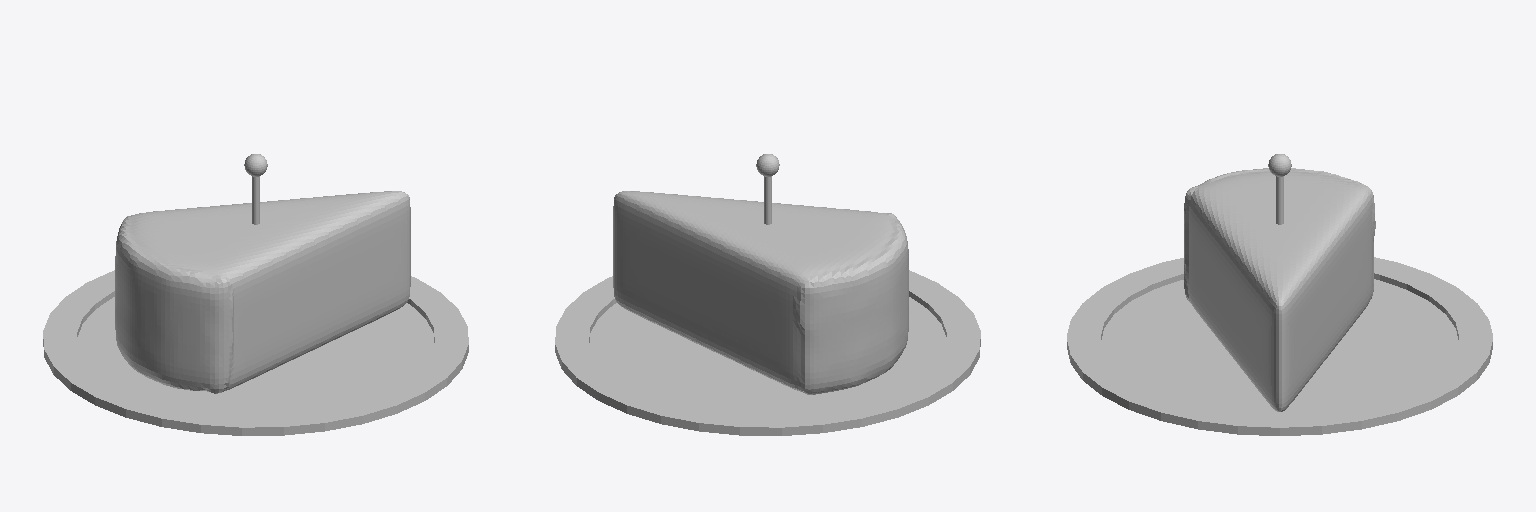
The model's file is main.obj.
3 renders of one model, left to right at view 1: azimuth 30°, elevation 25°; view 2: azimuth 150°, elevation 25°; view 3: azimuth 270°, elevation 25°, orthographic.
Visible parts, largest first — view 1: Cube_Cube.002, Cylinder.001_Cylinder.004; view 2: Cube_Cube.002, Cylinder.001_Cylinder.004; view 3: Cylinder.001_Cylinder.004, Cube_Cube.002.
Boxes of the visible parts, x1,y1,x2,y2 form: Cube_Cube.002: [115, 191, 410, 393]; Cylinder.001_Cylinder.004: [43, 270, 468, 435]; Cube_Cube.002: [613, 191, 908, 394]; Cylinder.001_Cylinder.004: [555, 270, 980, 435]; Cylinder.001_Cylinder.004: [1067, 257, 1492, 435]; Cube_Cube.002: [1184, 168, 1375, 411].
Size of the model in its own units: 6.39 by 3.35 by 6.39.